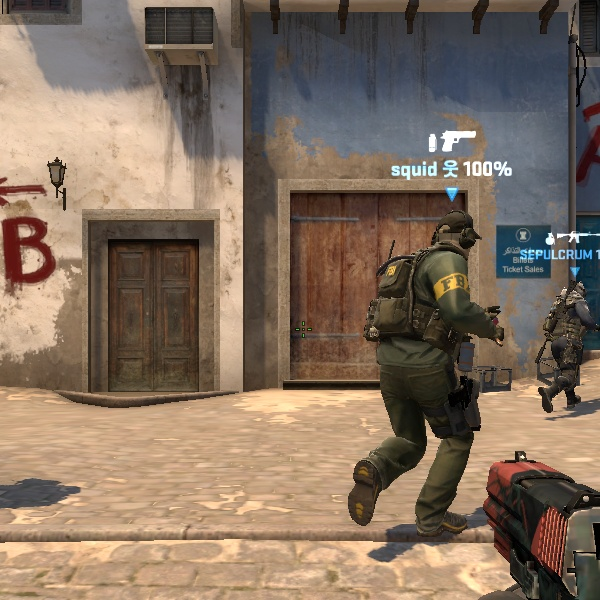ct_body: (323, 196, 525, 547), (526, 275, 600, 413)
ct_head: (424, 203, 485, 260), (567, 275, 594, 302)
